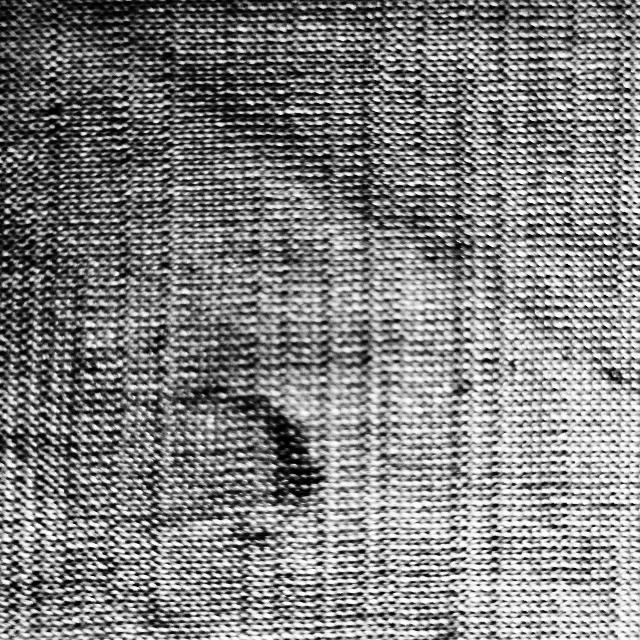Color_defect: (216, 384, 327, 508)
